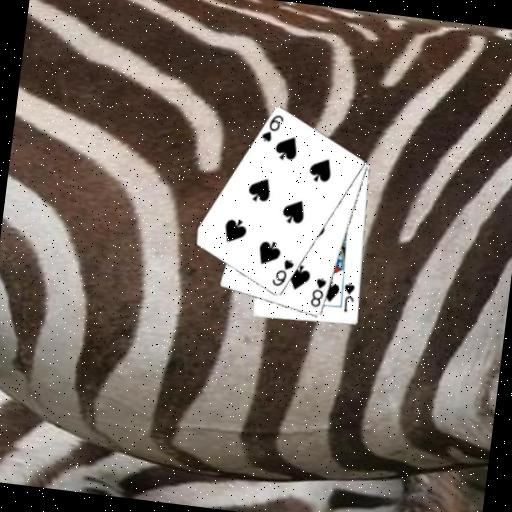6S: (268, 255, 296, 290), (258, 110, 286, 145)
8S: (307, 274, 329, 310)
JS: (339, 279, 358, 315)
